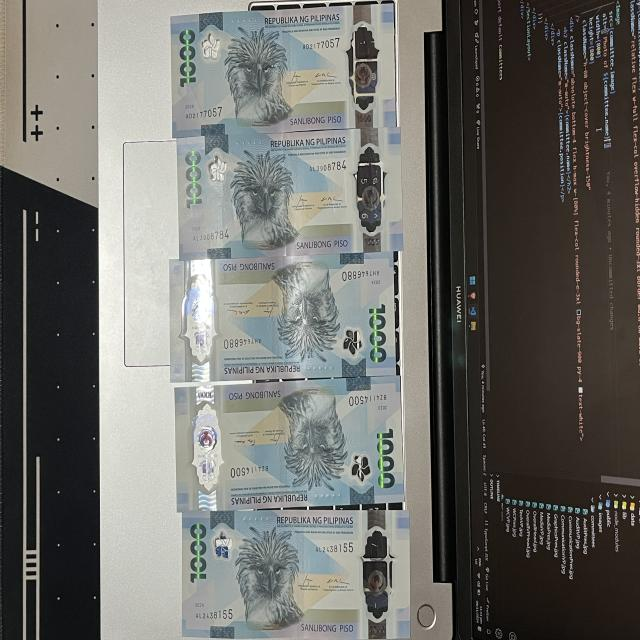clear_window: (186, 386, 230, 513)
eagle: (265, 257, 344, 365), (224, 148, 297, 257), (275, 387, 348, 493)
sampaguita: (331, 321, 368, 363), (193, 27, 231, 66), (202, 149, 234, 190)
